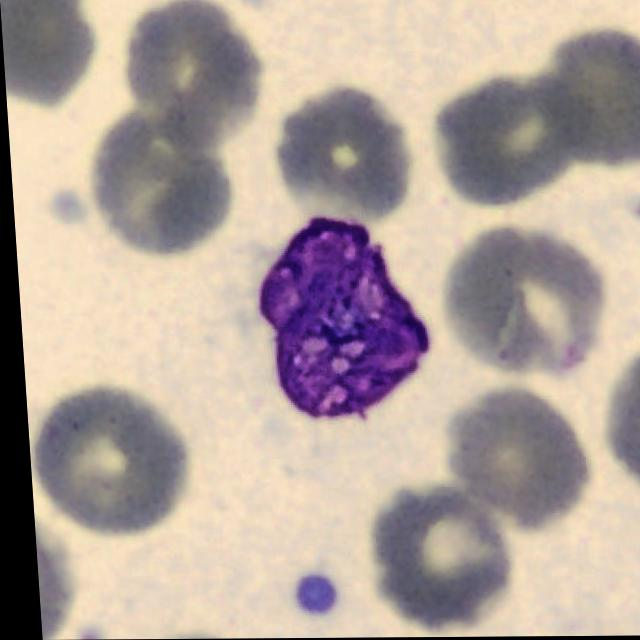Restos celulares: (253, 215, 426, 417)
